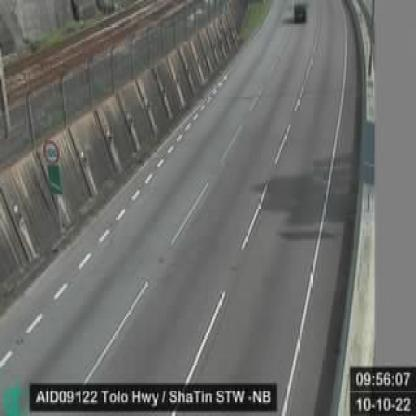Car: (296, 1, 308, 24)
